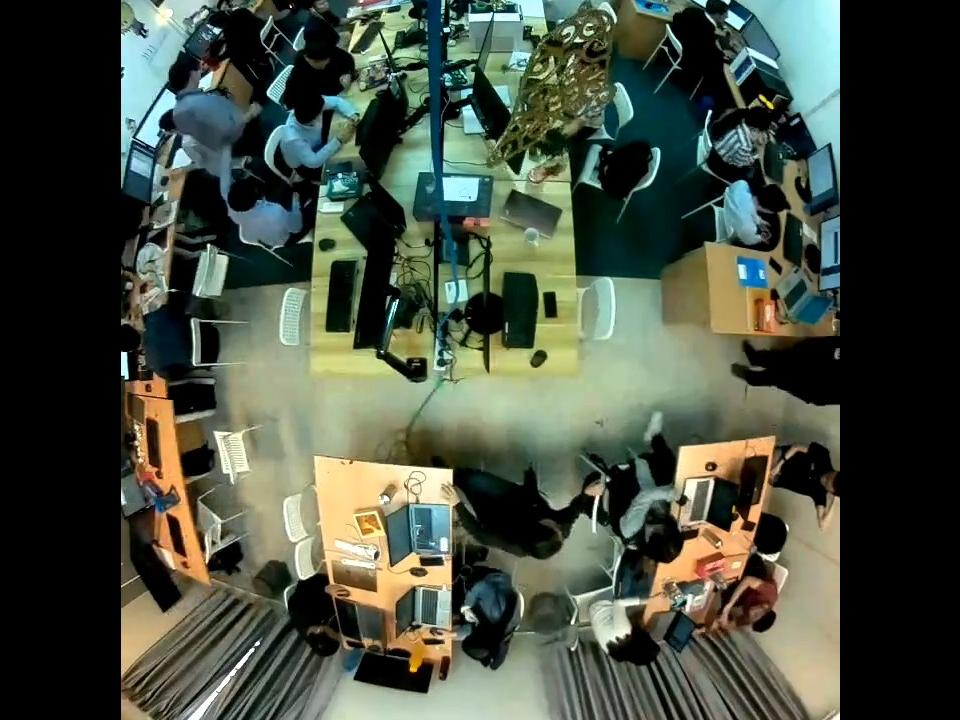name-tag: (832, 346, 840, 360)
